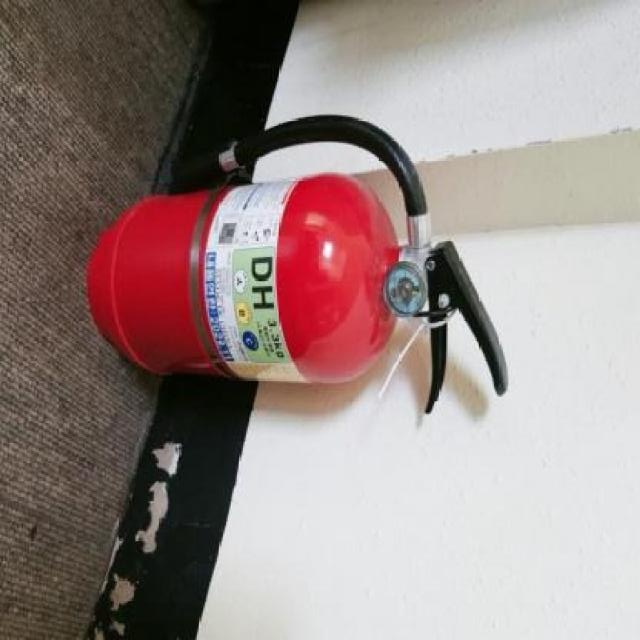fire extinguisher: (87, 114, 508, 415)
